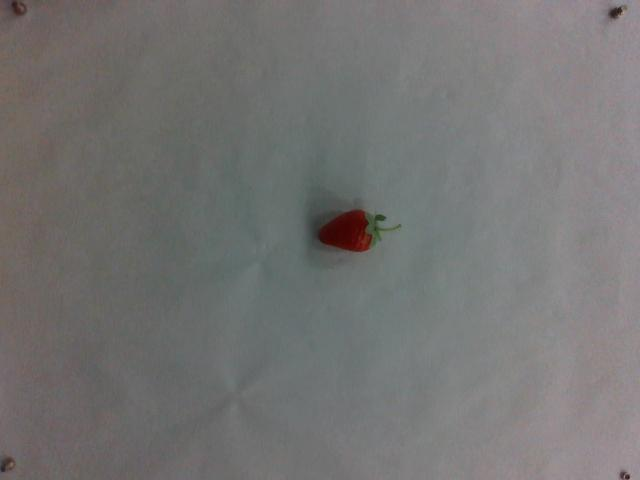strawberry: (317, 205, 402, 254)
